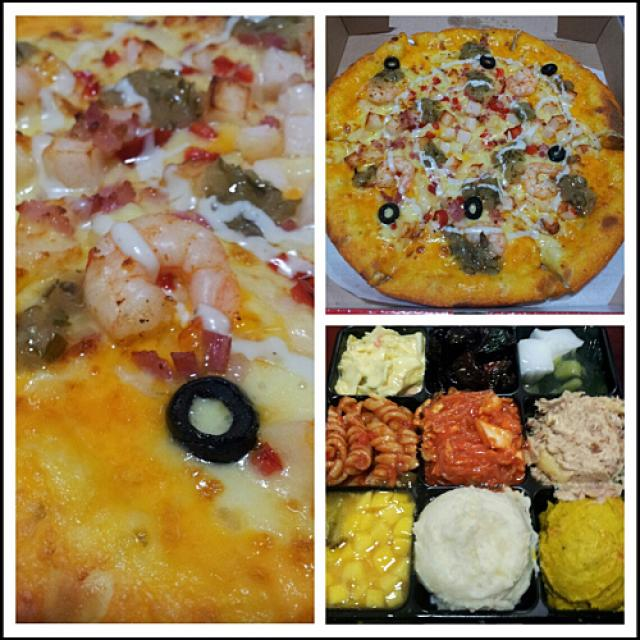Wet Waste: (326, 25, 622, 305)
